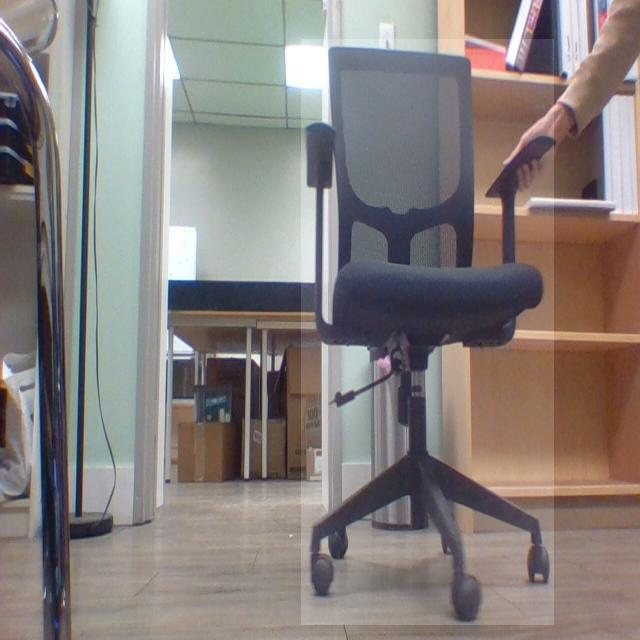chair: (301, 39, 555, 626)
